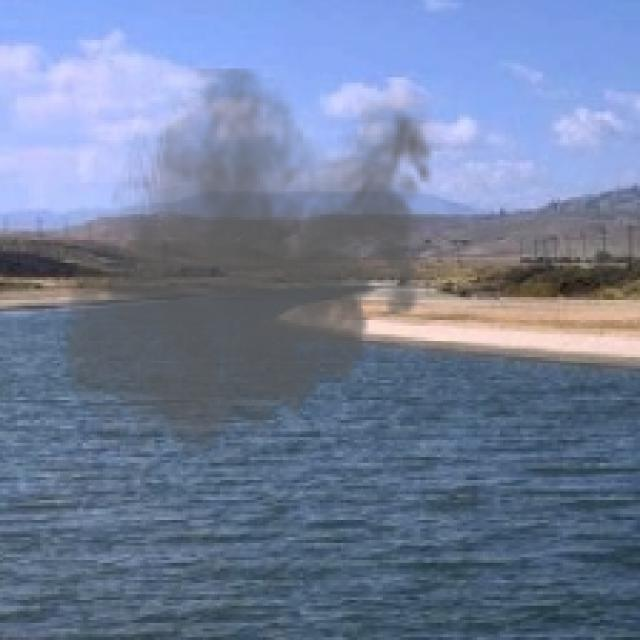Smoke: (54, 68, 446, 474)
